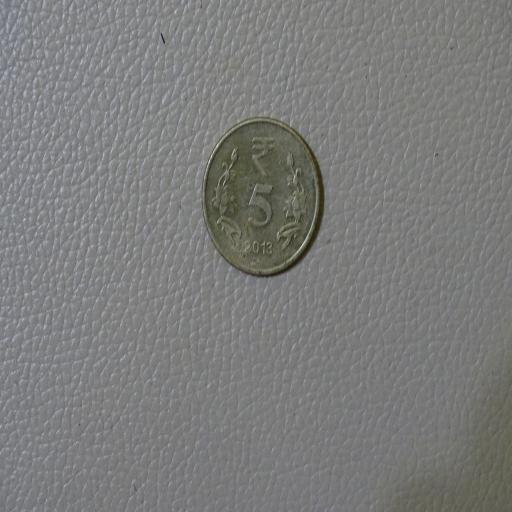rupee5: (199, 114, 323, 280)
